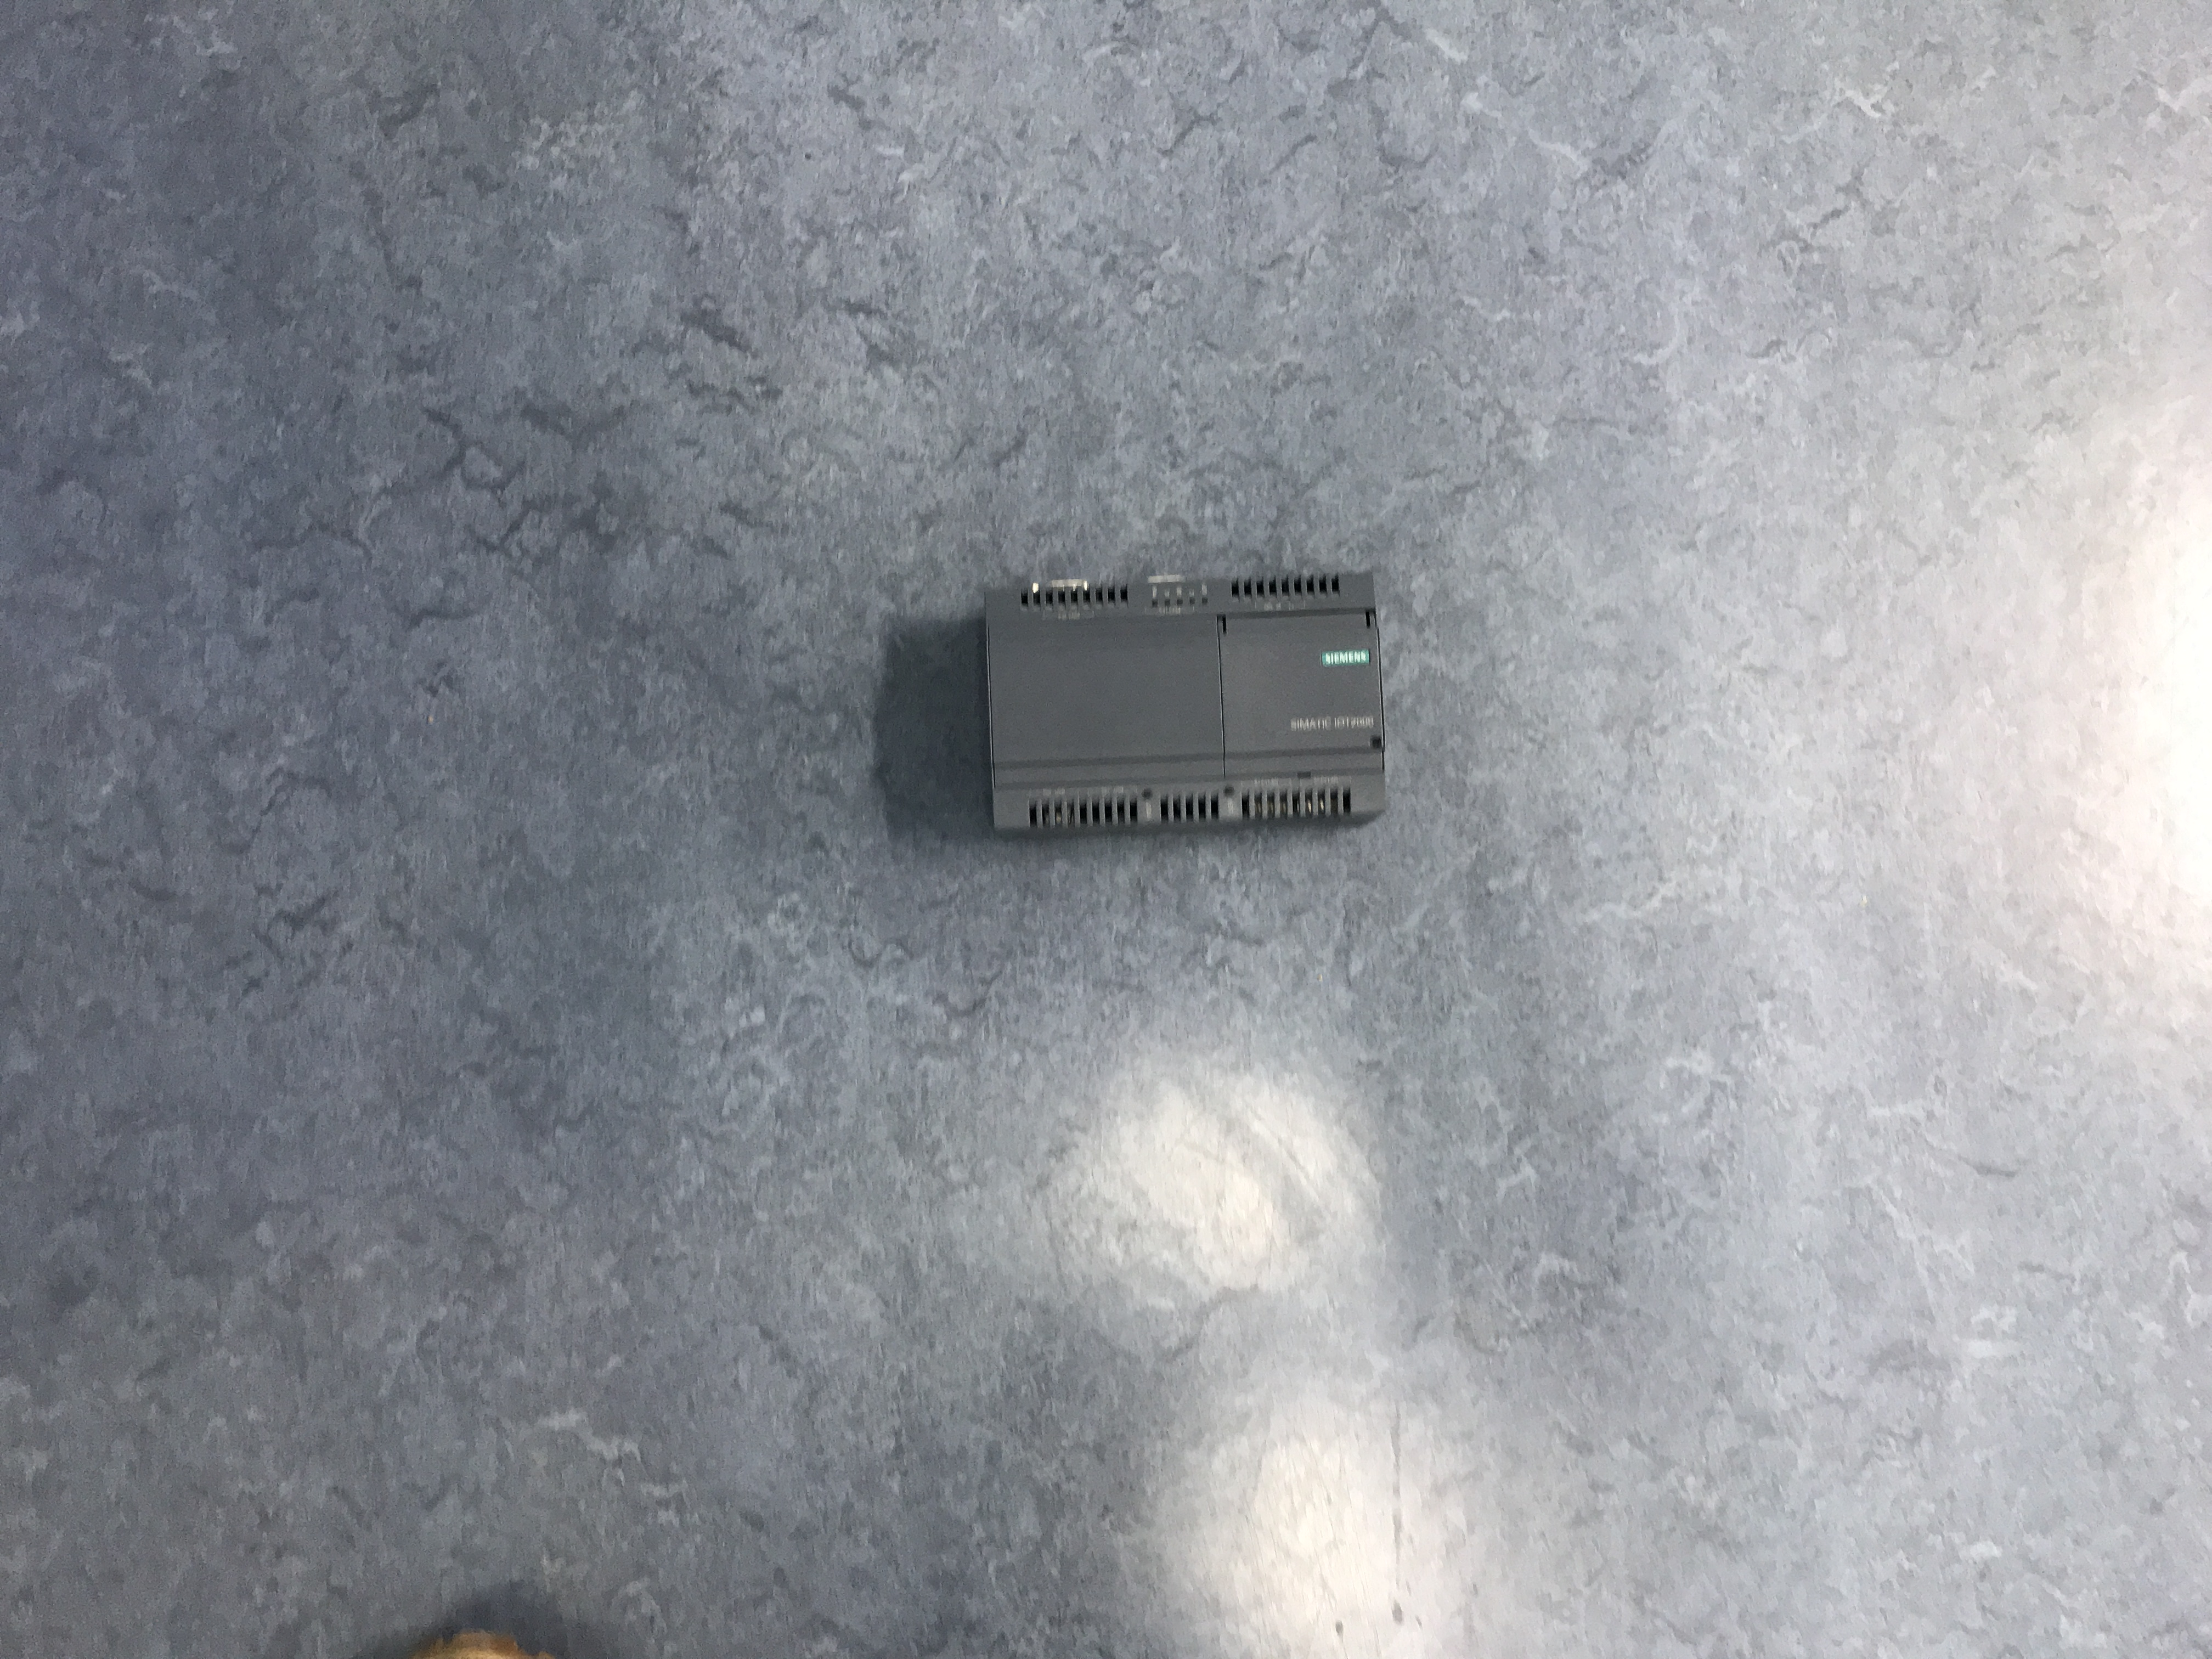device: (984, 573, 1388, 843)
